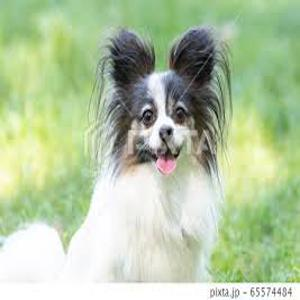yell: (0, 26, 232, 281)
